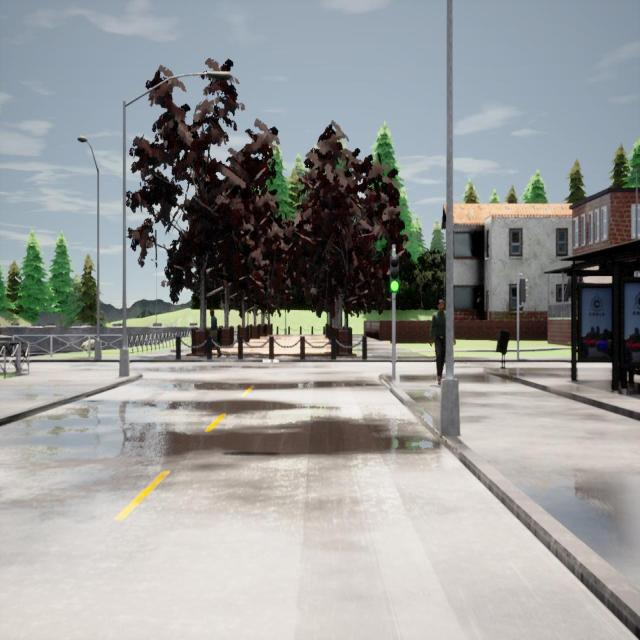Pedestrian: (430, 299, 446, 385), (206, 308, 222, 358)
traffic_light: (390, 257, 400, 292), (520, 278, 528, 303)
